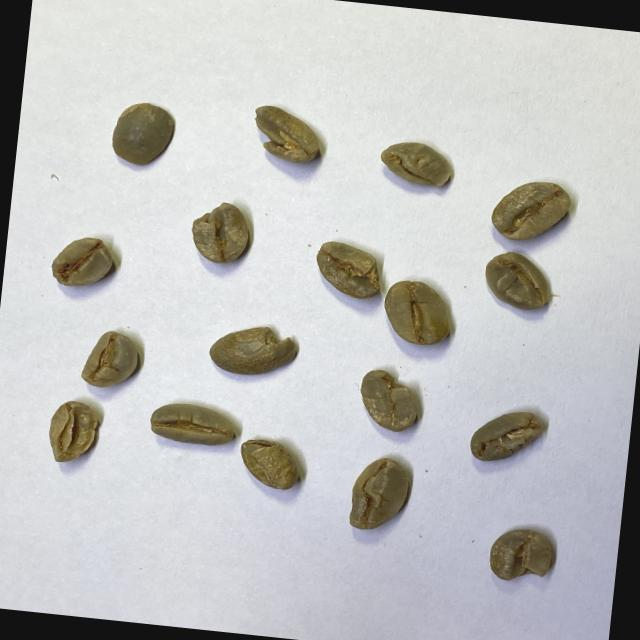bad: (206, 320, 300, 380), (346, 454, 412, 535), (468, 404, 546, 468), (248, 103, 326, 165), (354, 366, 424, 434), (481, 248, 554, 313), (185, 197, 252, 267), (312, 238, 386, 300), (376, 137, 456, 191), (486, 524, 554, 586), (78, 328, 142, 392), (48, 232, 116, 292), (45, 398, 102, 467), (235, 434, 301, 492)
good: (488, 176, 572, 247), (379, 276, 454, 348), (108, 98, 178, 170), (146, 398, 238, 448)
